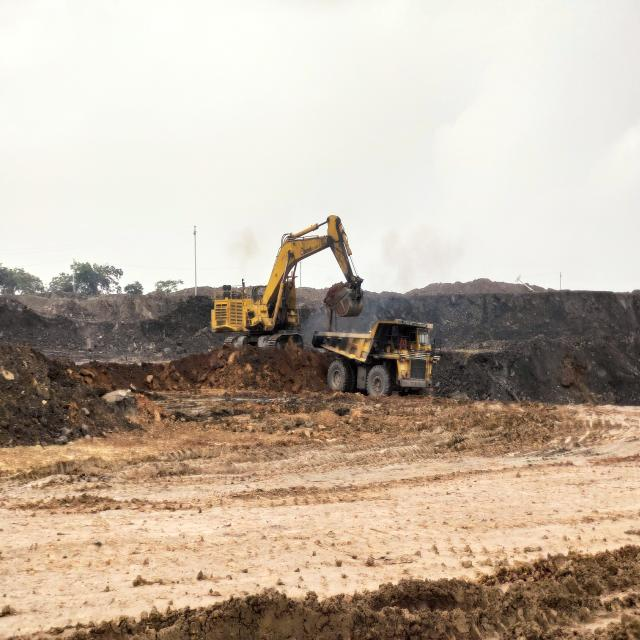dump_truck: (309, 317, 444, 399)
excavator: (210, 211, 365, 353)
